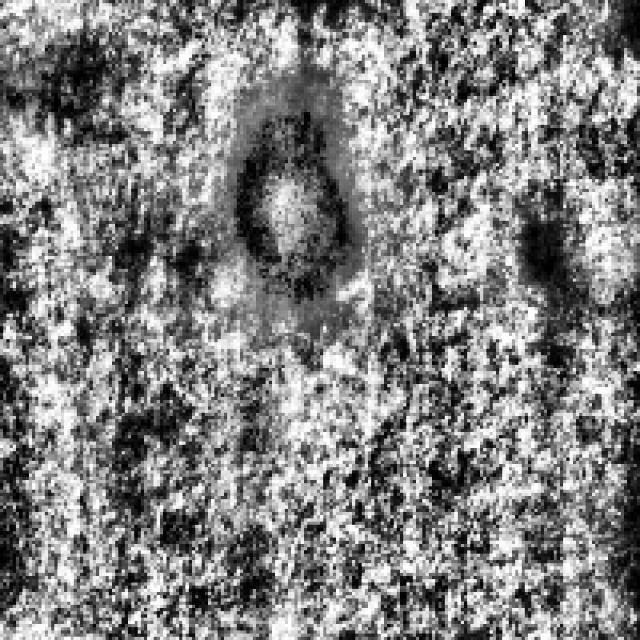Scratches: (230, 83, 349, 298)
